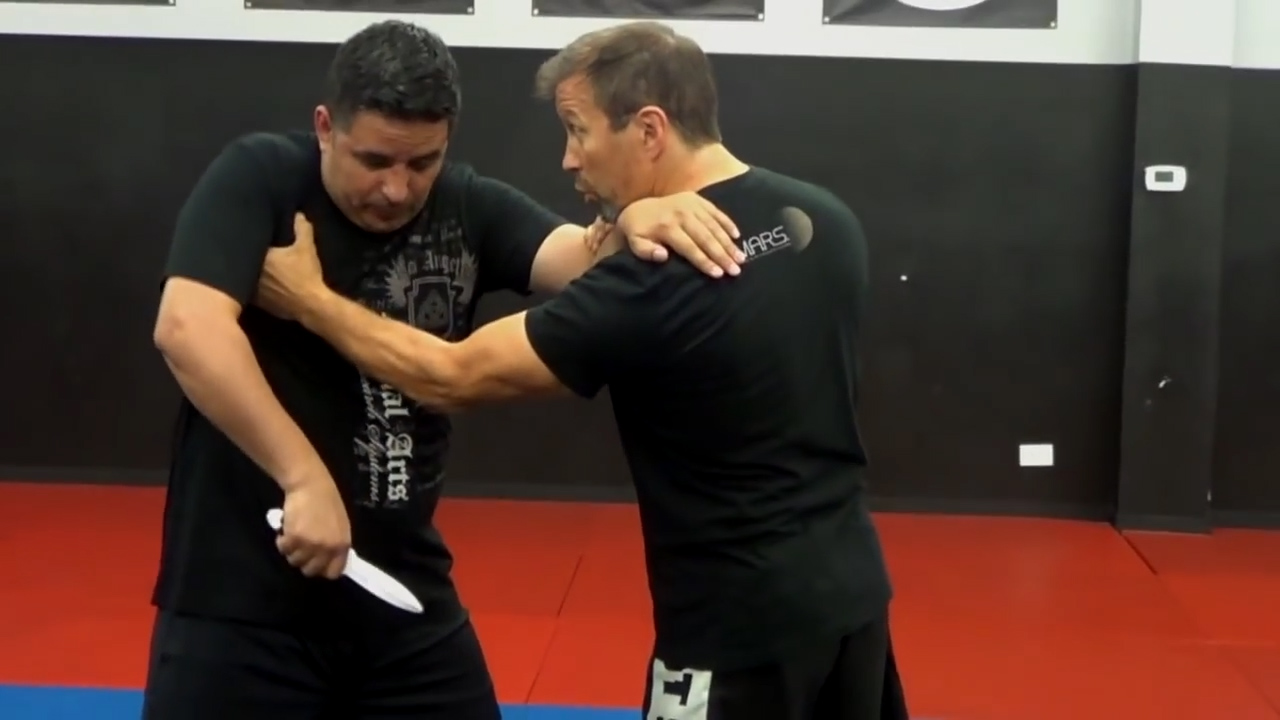knife: (263, 500, 431, 621)
